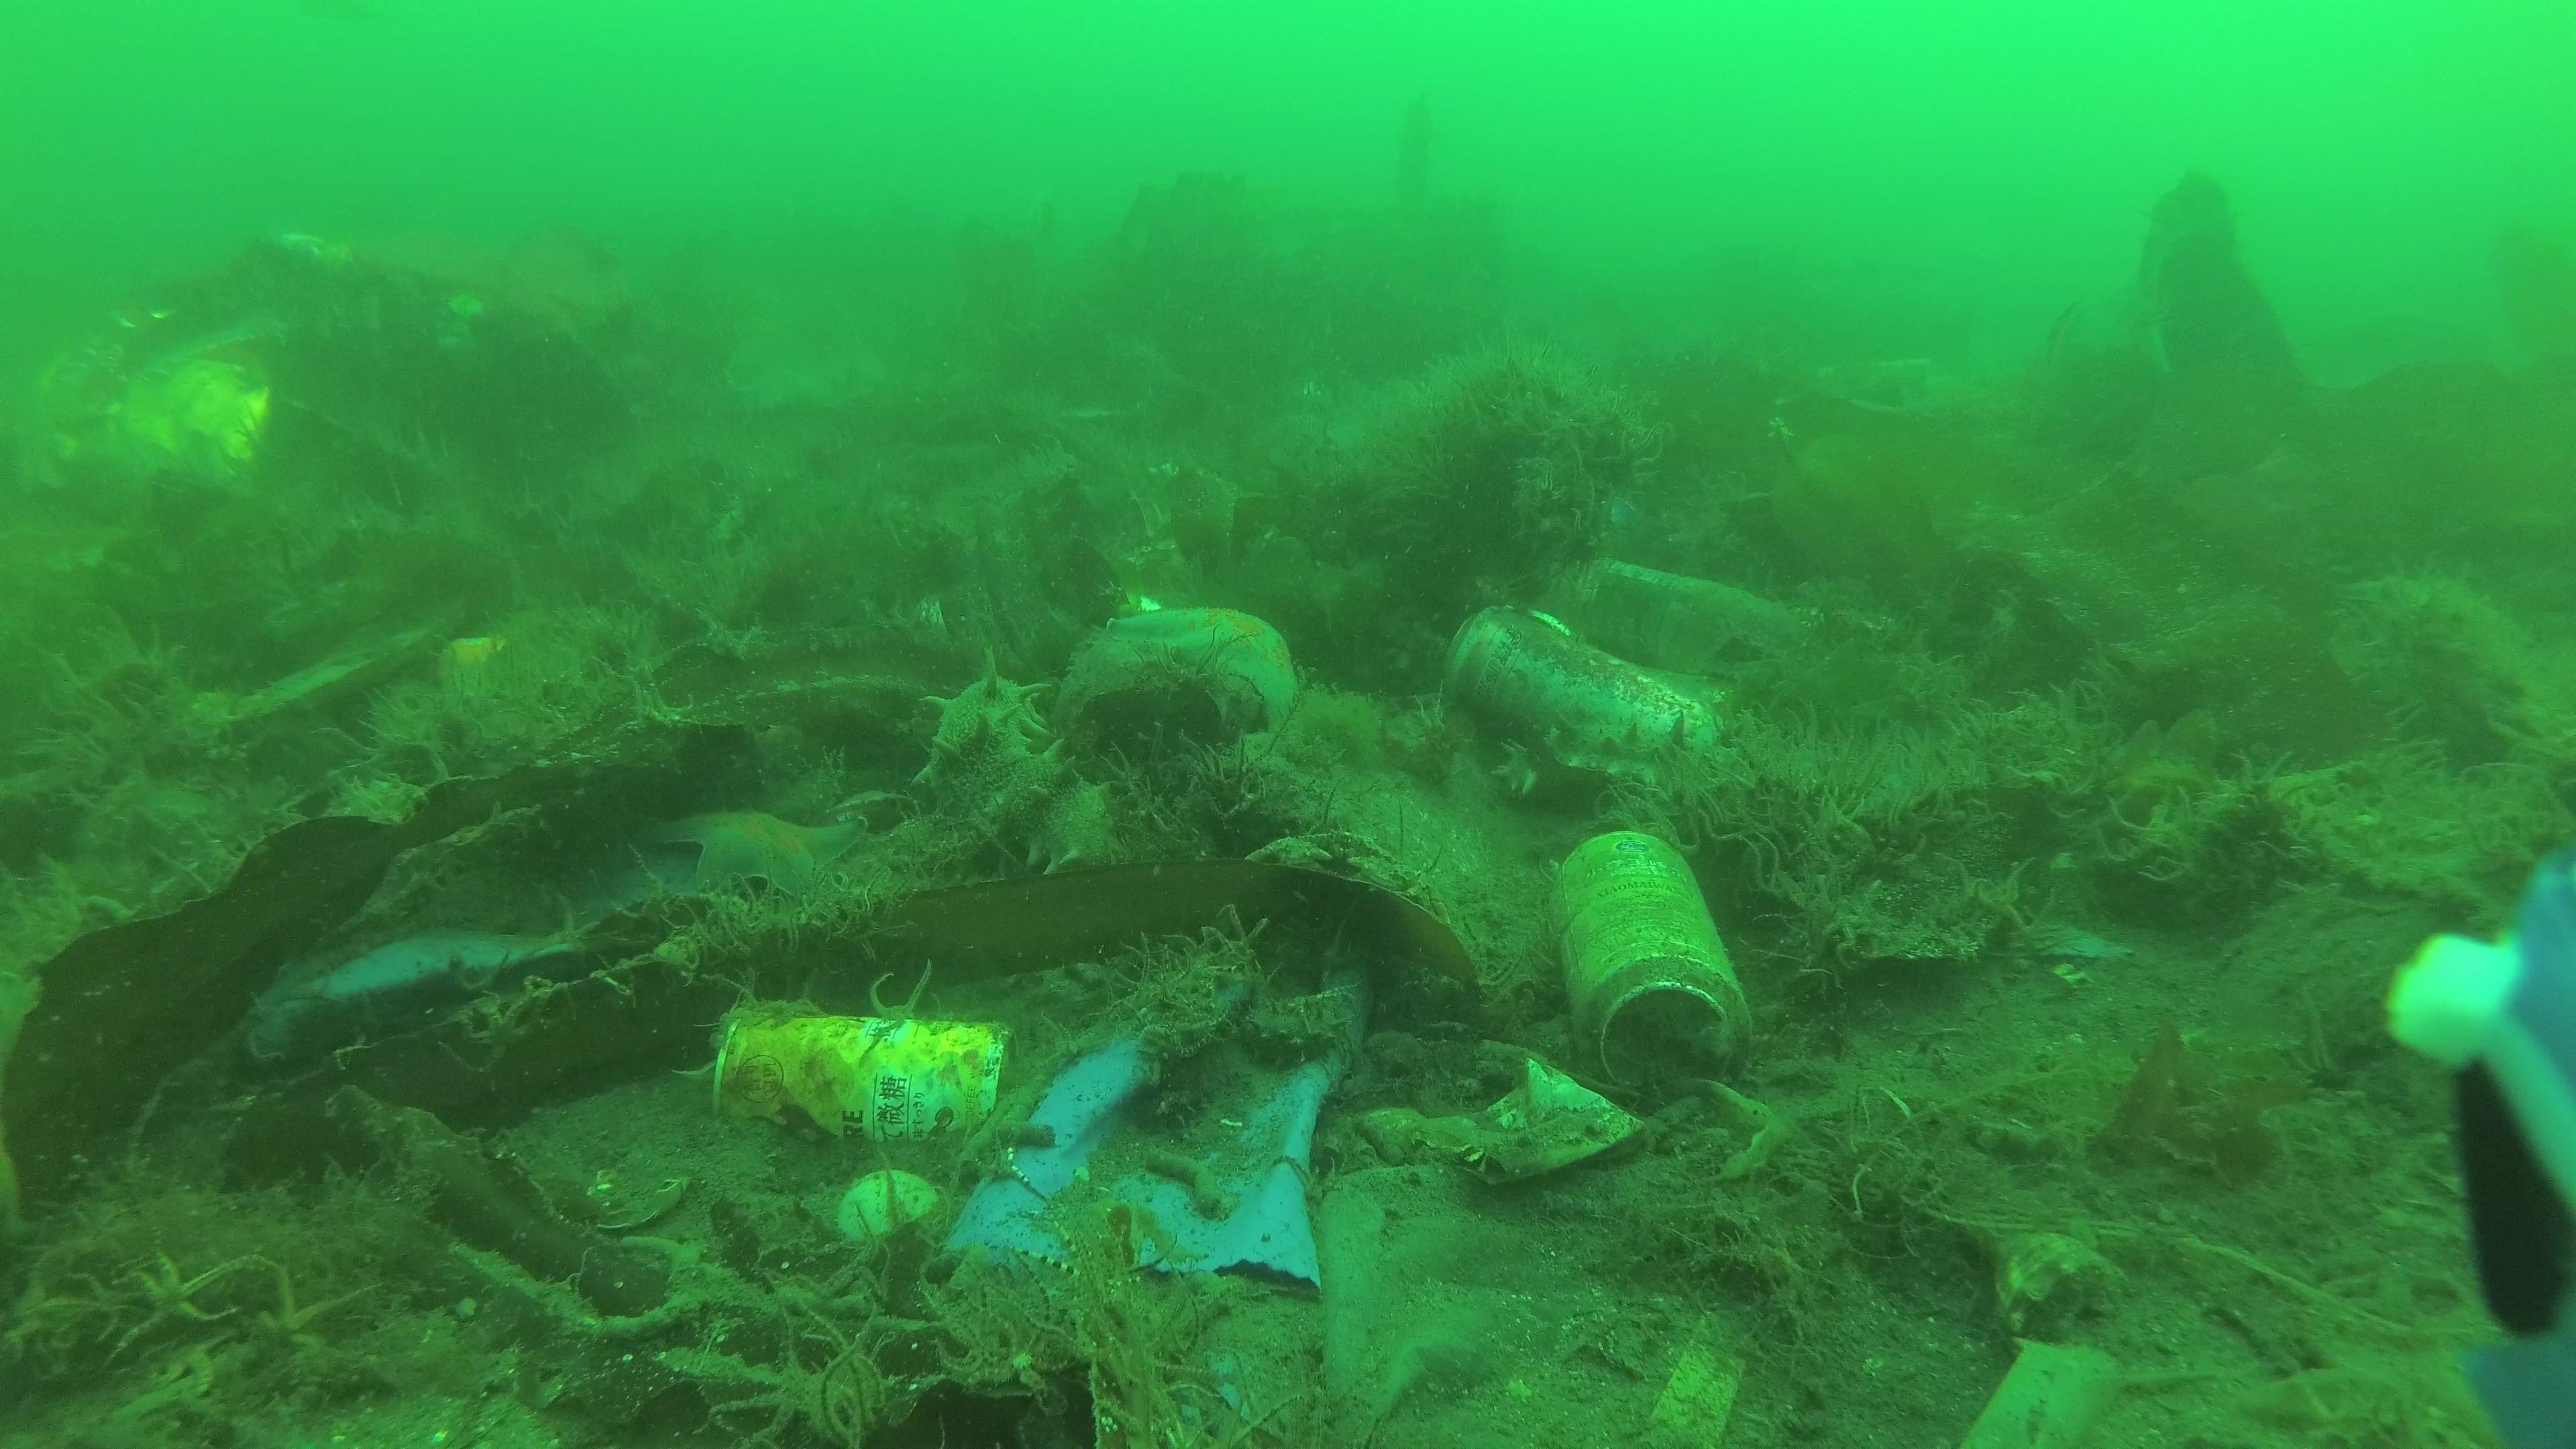holothurian: (908, 653, 1131, 885), (1495, 708, 1736, 828)
starfish: (1044, 609, 1304, 766), (646, 810, 865, 909), (110, 1251, 264, 1361)
